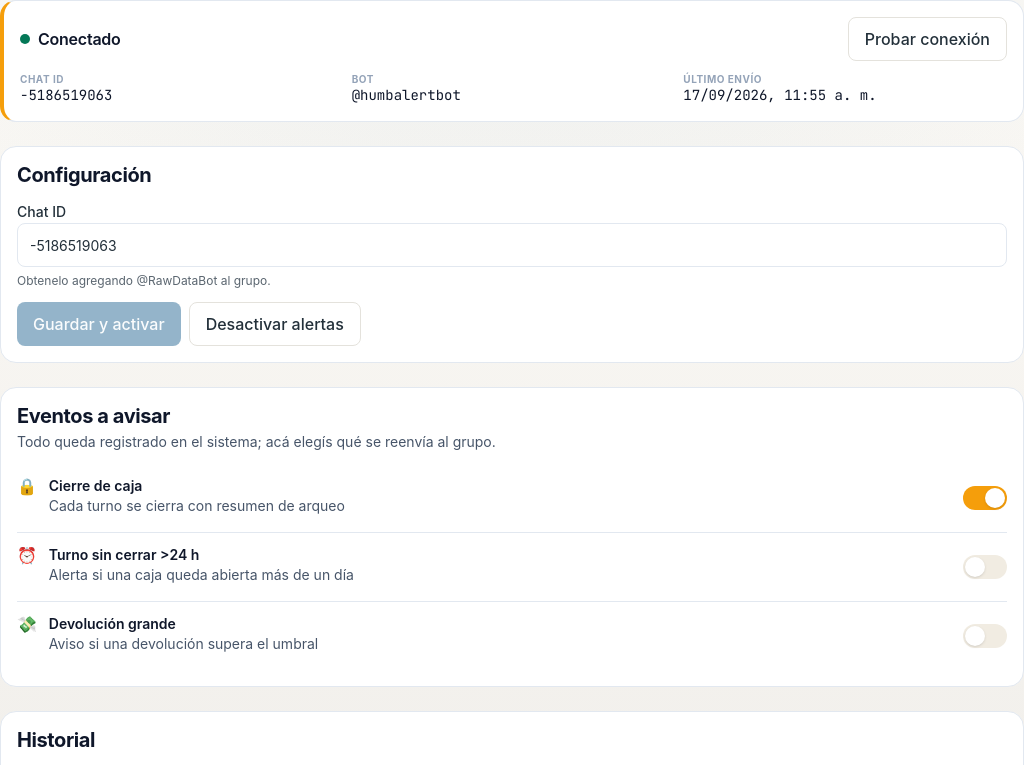
Test: NotificationsClient › «Probar conexión» manda un mensaje real y lo avisa
Click the button "Probar conexión".
click(927, 39)  # box [848, 17, 1007, 61]
(page scrolled)
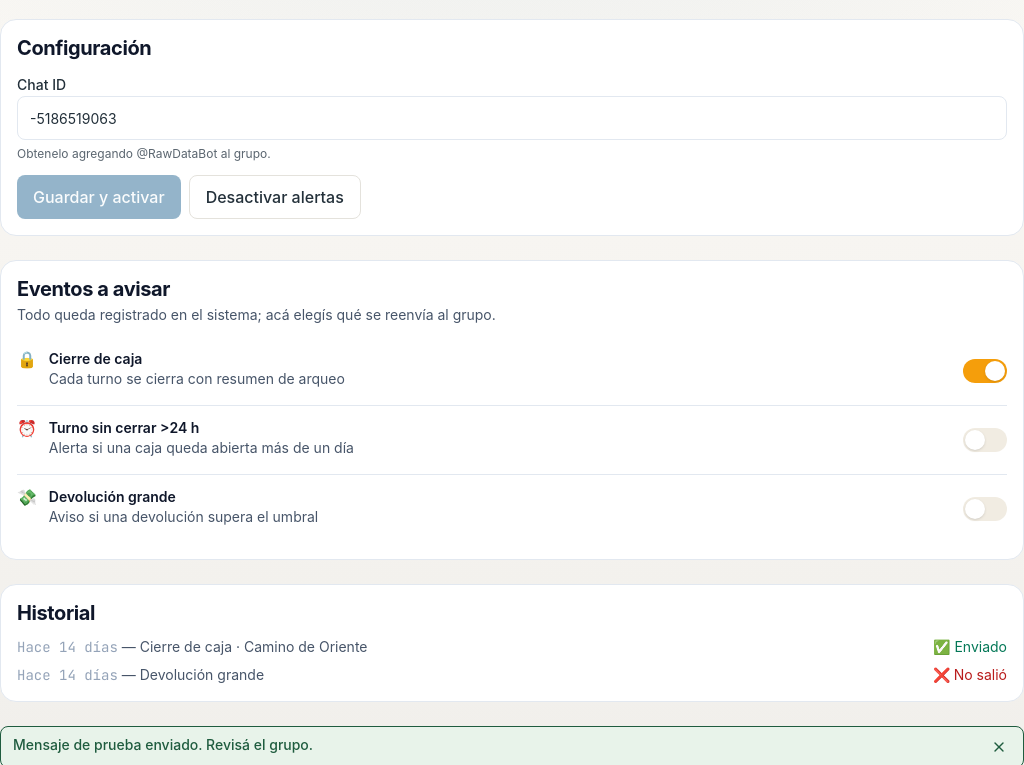
expect the text "Mensaje de prueba enviado. Revisá el grupo." is shown: met, box [13, 734, 313, 754]
